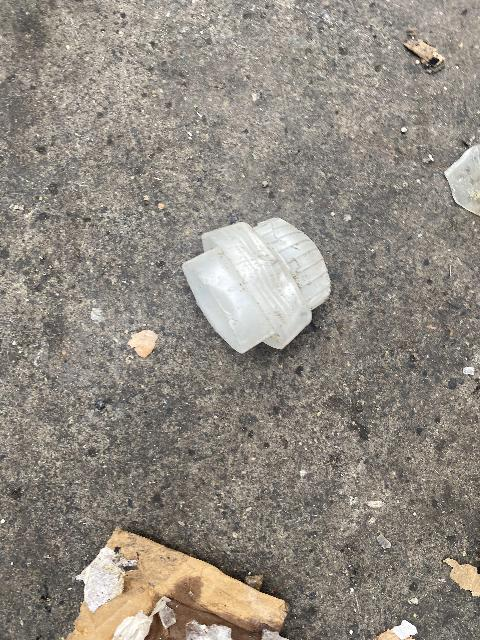Kagit: (67, 530, 287, 640), (440, 546, 480, 605), (402, 38, 449, 73), (132, 330, 163, 363), (378, 621, 422, 640)
Plastik: (179, 206, 327, 363)
